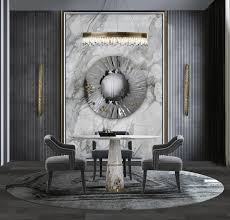Chair: (45, 135, 88, 195), (142, 134, 187, 186)
Table: (76, 132, 157, 191)
